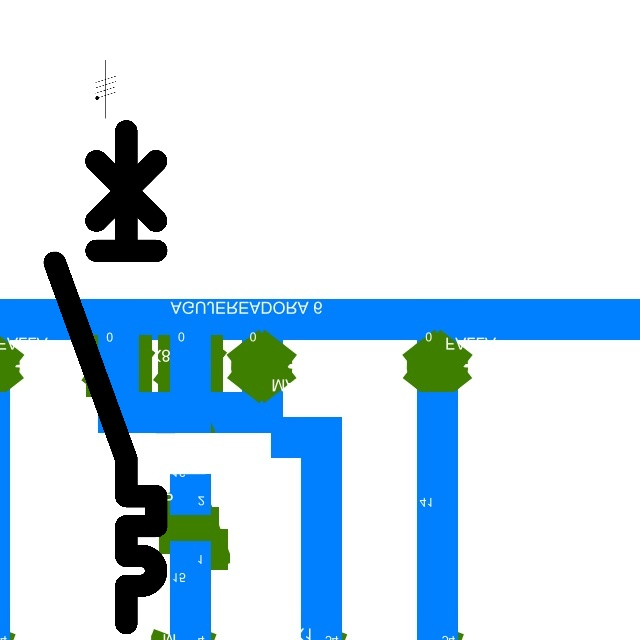interruptor_termomagnetico: (42, 118, 169, 635)
